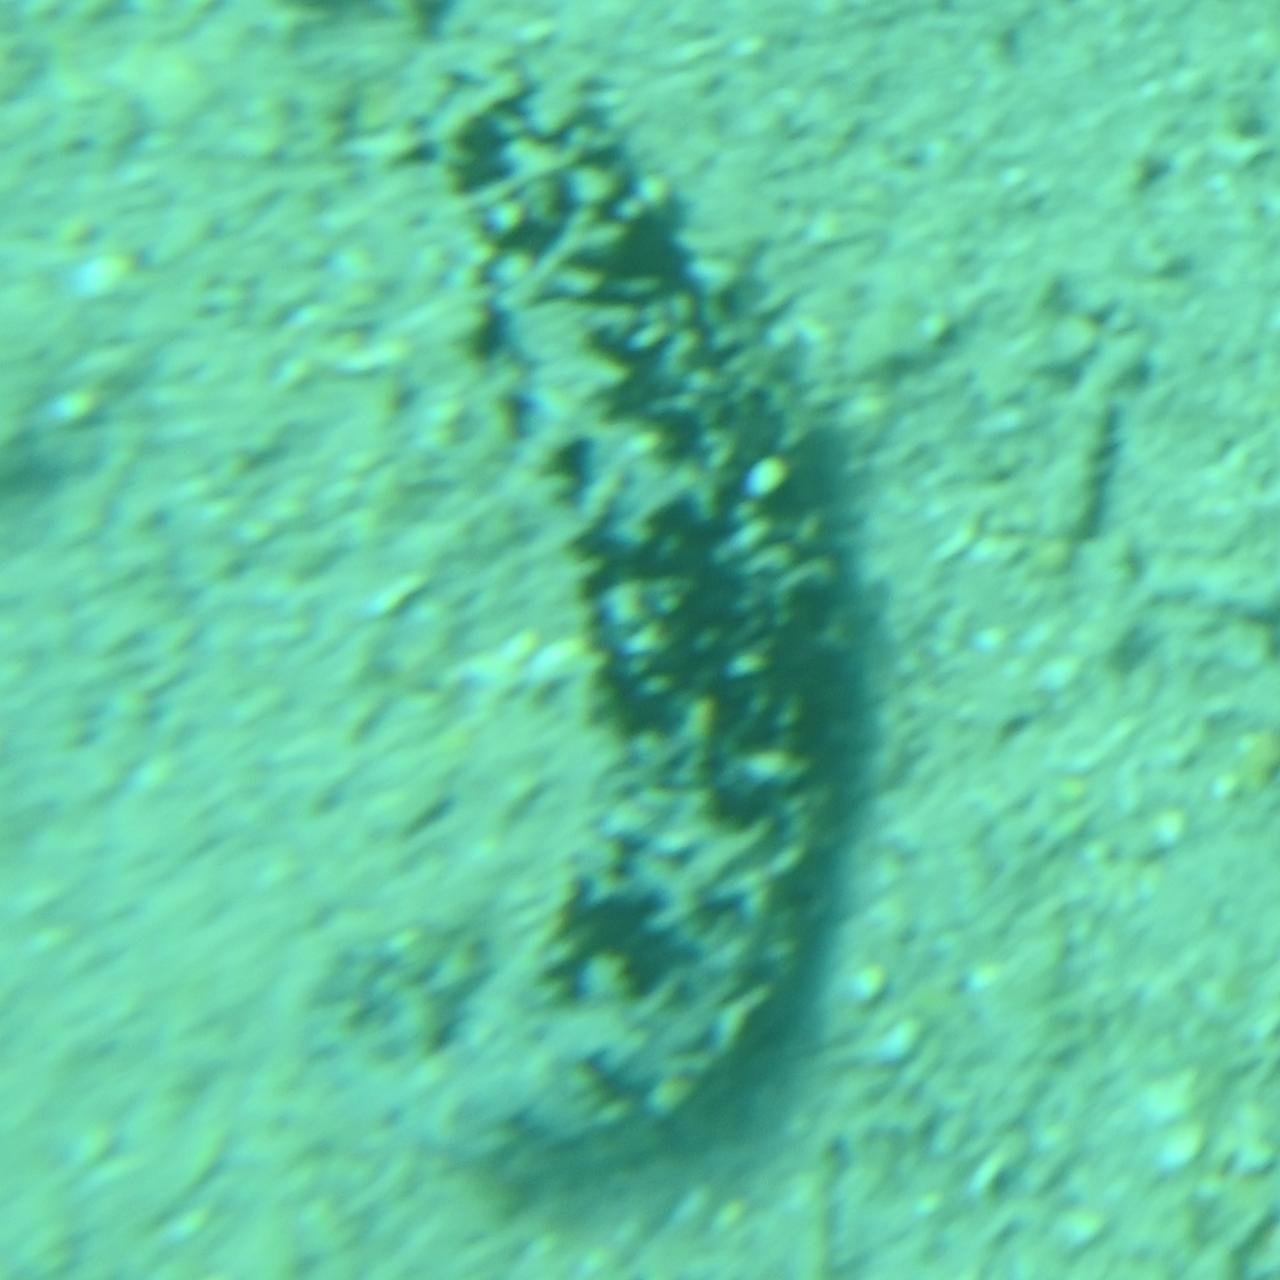Holothuria tubulosa: (382, 60, 898, 1220)
